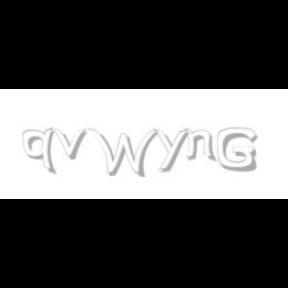G: (217, 128, 257, 172)
W: (87, 128, 159, 178)
n: (183, 128, 217, 162)
q: (22, 128, 58, 176)
v: (51, 128, 91, 160)
y: (153, 128, 193, 172)
